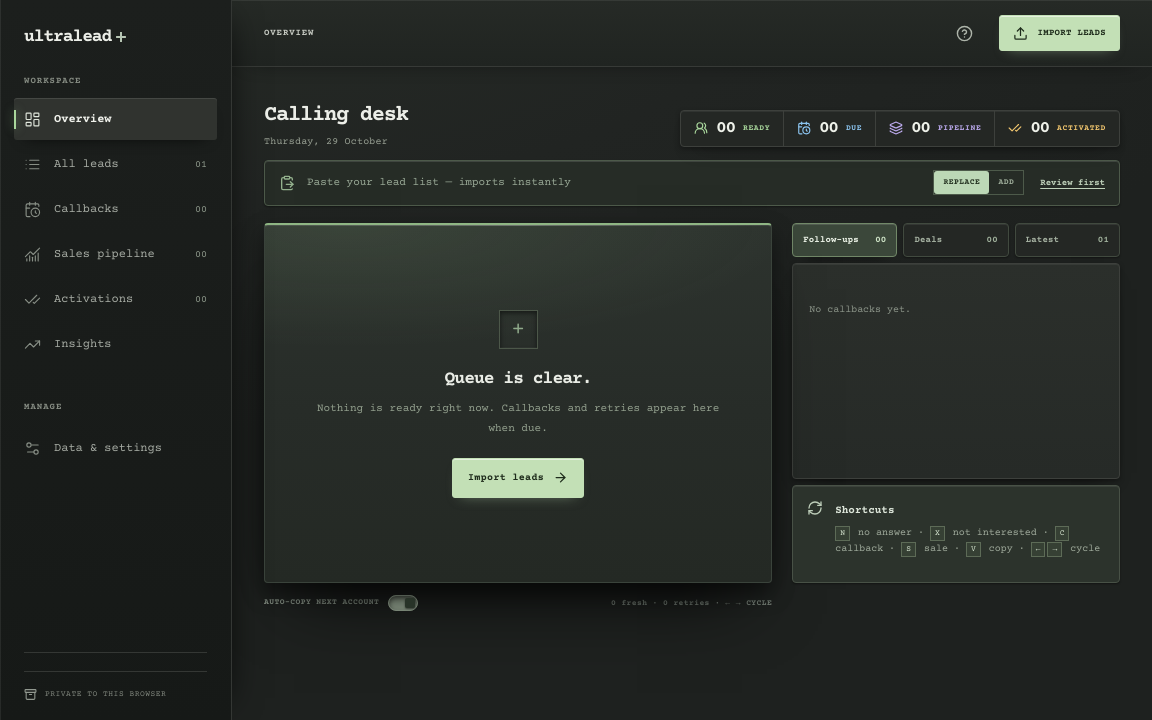
Test: calling workflow › can return a lead to the queue after its sale record is deleted without erasing history
Click the button "All leads 01": (116, 164) [14, 143, 217, 185]
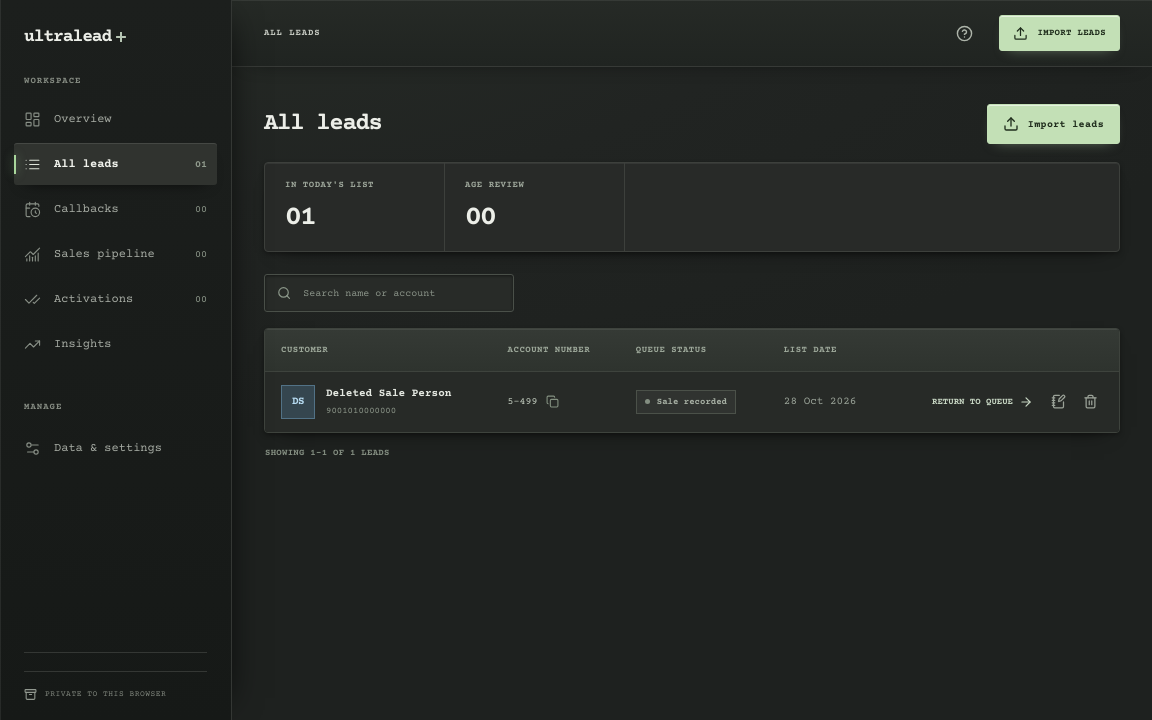
Click the button "RETURN TO QUEUE": (982, 402) [926, 388, 1039, 414]
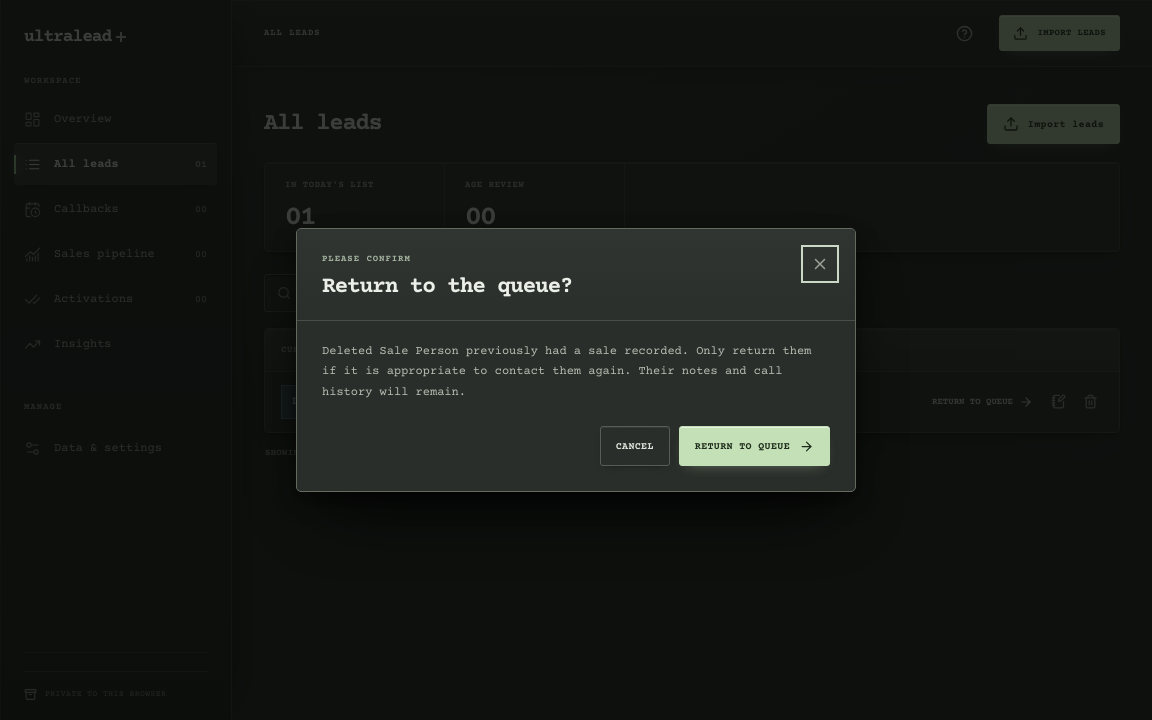
Expected: the text "previously had a sale recorded" is shown, [322, 345, 811, 399]
Click the button "RETURN TO QUEUE": (754, 446) [679, 426, 830, 466]
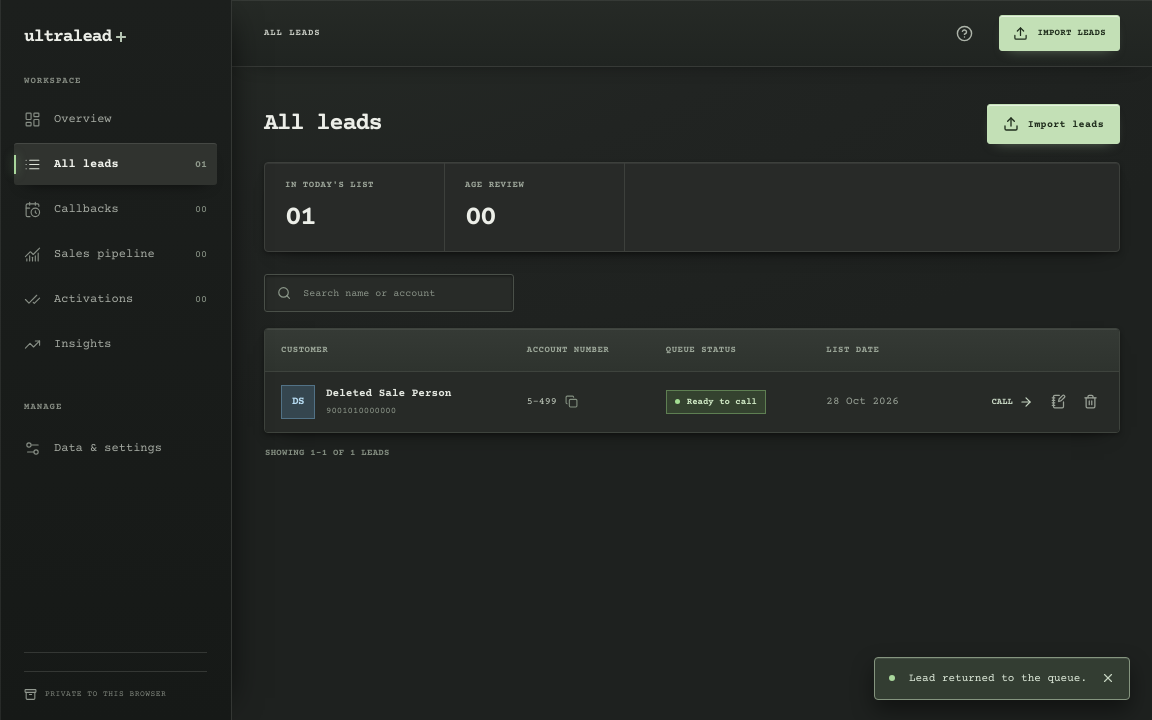
Expected: the button "CALL" is shown, [985, 388, 1039, 414]
